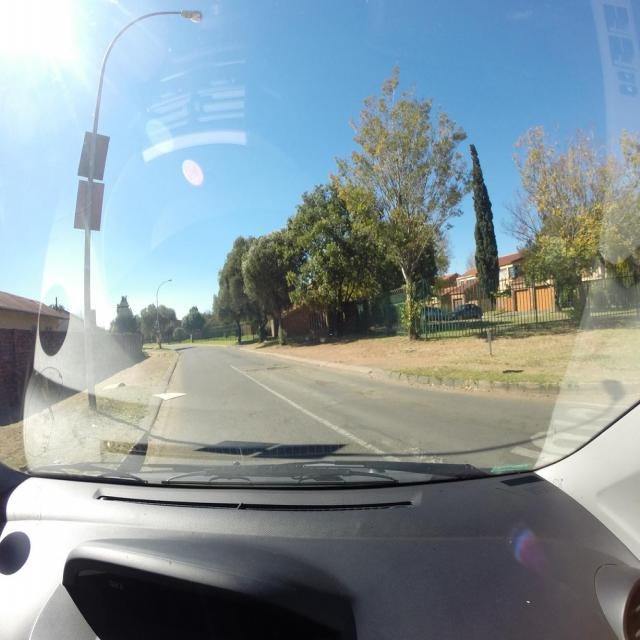Pothole: (362, 386, 406, 398), (268, 367, 292, 370), (246, 369, 261, 372), (315, 379, 324, 383), (260, 364, 266, 366), (274, 364, 280, 366)
